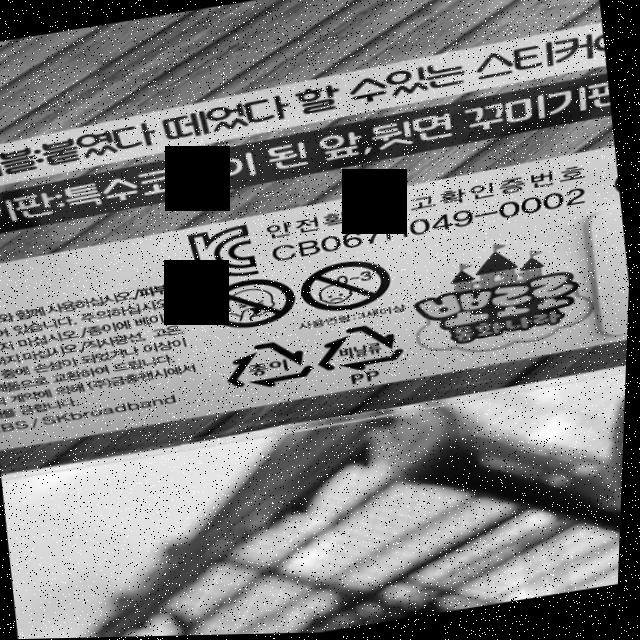Paper: (222, 334, 319, 396)
Vinyl: (314, 318, 412, 380)
